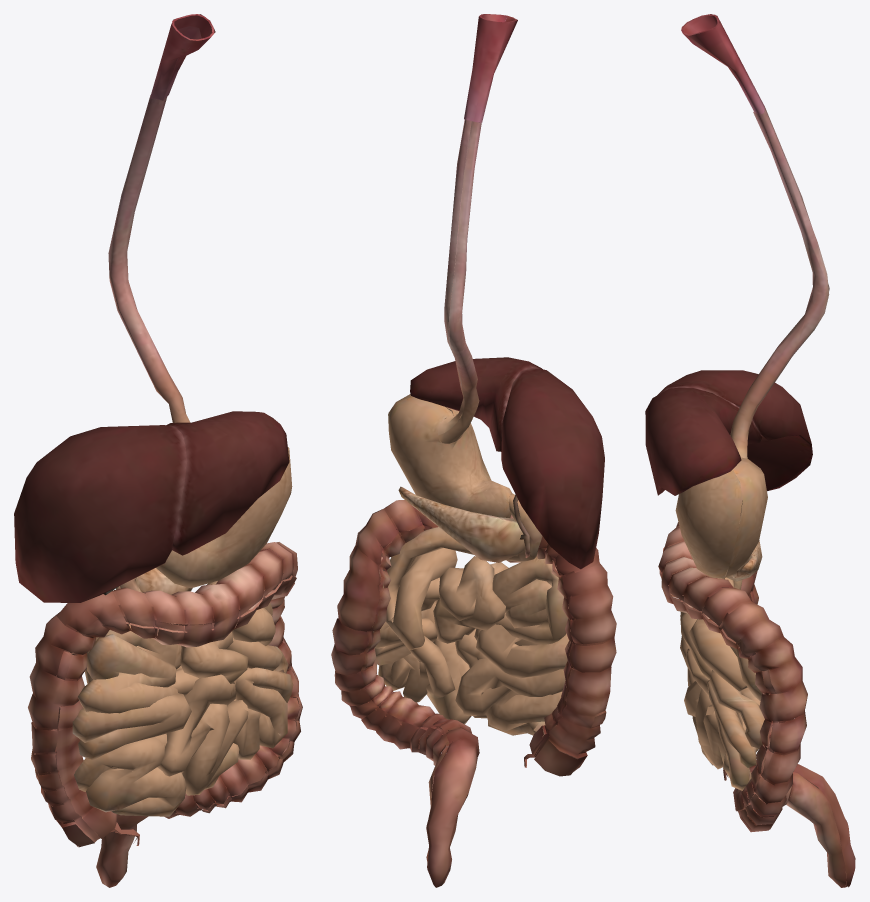
File: stomach.glb
3 renders of one model, left to right at view 1: azimuth 30°, elevation 25°; view 2: azimuth 150°, elevation 25°; view 3: azimuth 270°, elevation 25°, orthographic. The views are drawn at different scales.
Visible parts, largest first — view 1: Gut; view 2: Gut; view 3: Gut.
Boxes of the visible parts, bbox=[...] form: Gut: bbox=[14, 14, 302, 887]; Gut: bbox=[331, 14, 616, 887]; Gut: bbox=[645, 14, 855, 887].
Size of the model in its own units: 0.12 by 0.3602 by 0.0788.
1 material, 1 textured.
